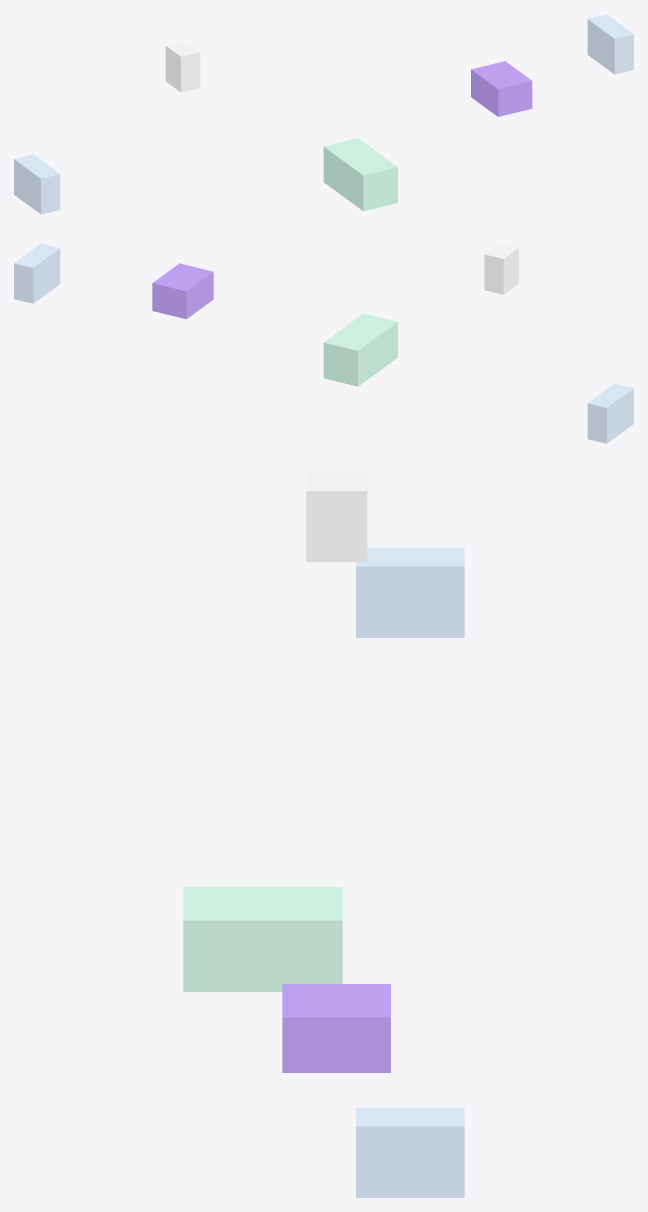
3 views of the same model, one above another, from view 1: azimuth 30°, elevation 25°; view 2: azimuth 150°, elevation 25°; view 3: azimuth 270°, elevation 25° (orthographic). The views are drawn at different scales.
Parts seen in each view (by area): view 1: Experts ×4, Weighted combine, Tokens / embedding, Normalization / output, Router + top-2; view 2: Experts ×4, Weighted combine, Normalization / output, Tokens / embedding, Router + top-2; view 3: Experts ×4, Normalization / output, Tokens / embedding, Weighted combine, Router + top-2.
Part boxes in pixels (x1=…): Experts ×4: x1=323, y1=138, x2=397, y2=211; Weighted combine: x1=471, y1=61, x2=532, y2=116; Tokens / embedding: x1=14, y1=154, x2=60, y2=214; Normalization / output: x1=587, y1=14, x2=633, y2=74; Router + top-2: x1=165, y1=41, x2=200, y2=92; Experts ×4: x1=323, y1=313, x2=397, y2=386; Weighted combine: x1=152, y1=263, x2=213, y2=319; Normalization / output: x1=14, y1=243, x2=60, y2=303; Tokens / embedding: x1=587, y1=383, x2=633, y2=443; Router + top-2: x1=484, y1=243, x2=518, y2=294; Experts ×4: x1=183, y1=887, x2=342, y2=991; Normalization / output: x1=356, y1=1107, x2=464, y2=1197; Tokens / embedding: x1=356, y1=547, x2=464, y2=637; Weighted combine: x1=282, y1=984, x2=390, y2=1072; Router + top-2: x1=306, y1=472, x2=367, y2=562.
Bounding box in the file's own units: 34.42 × 9.38 × 7.07.
